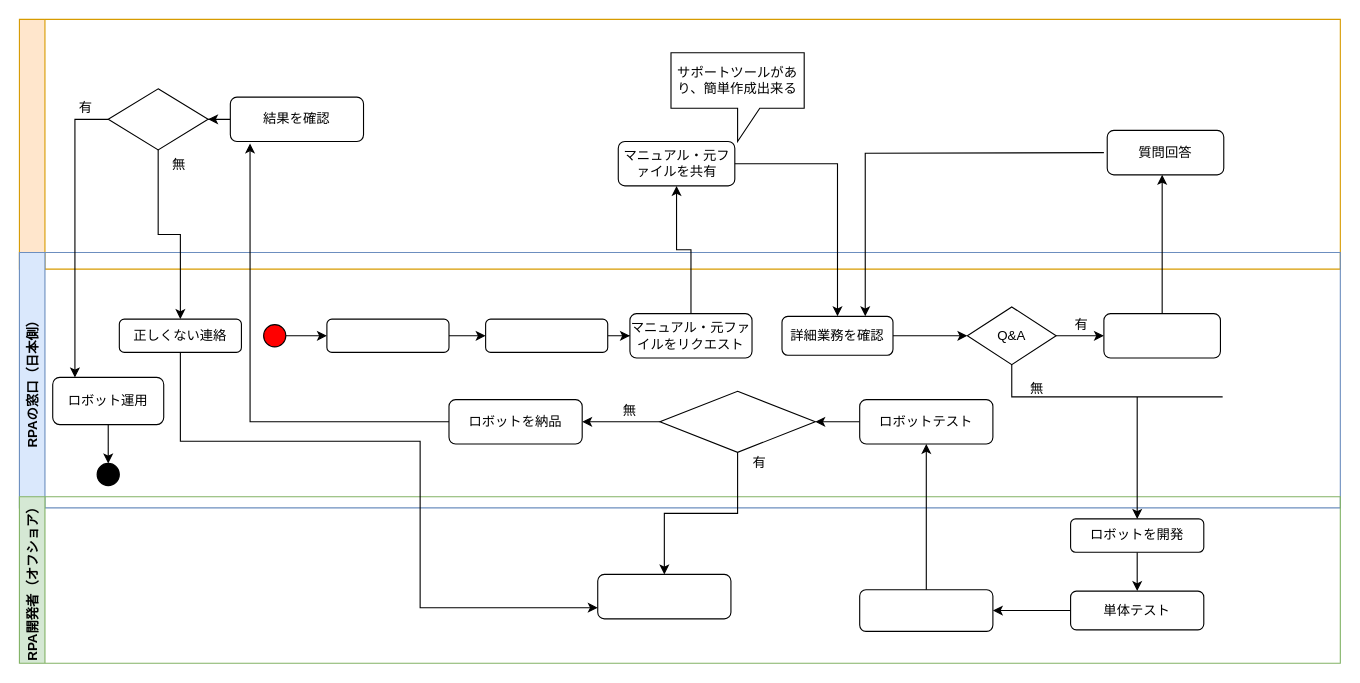
The diagram is 1360 pixels wide and 683 high, and some of its shapes have lost their labels. Each missing label, with the box of its shape:
ヒアリング: (485, 318, 608, 352)
ロボットを修正: (597, 573, 731, 619)
ロボットを提出: (859, 589, 993, 631)
不具合・正しくない: (659, 390, 815, 452)
担当者: (18, 18, 1340, 269)
業務確認: (1103, 312, 1220, 358)
結果は正解: (107, 88, 208, 150)
説明会を行う: (326, 318, 449, 352)
